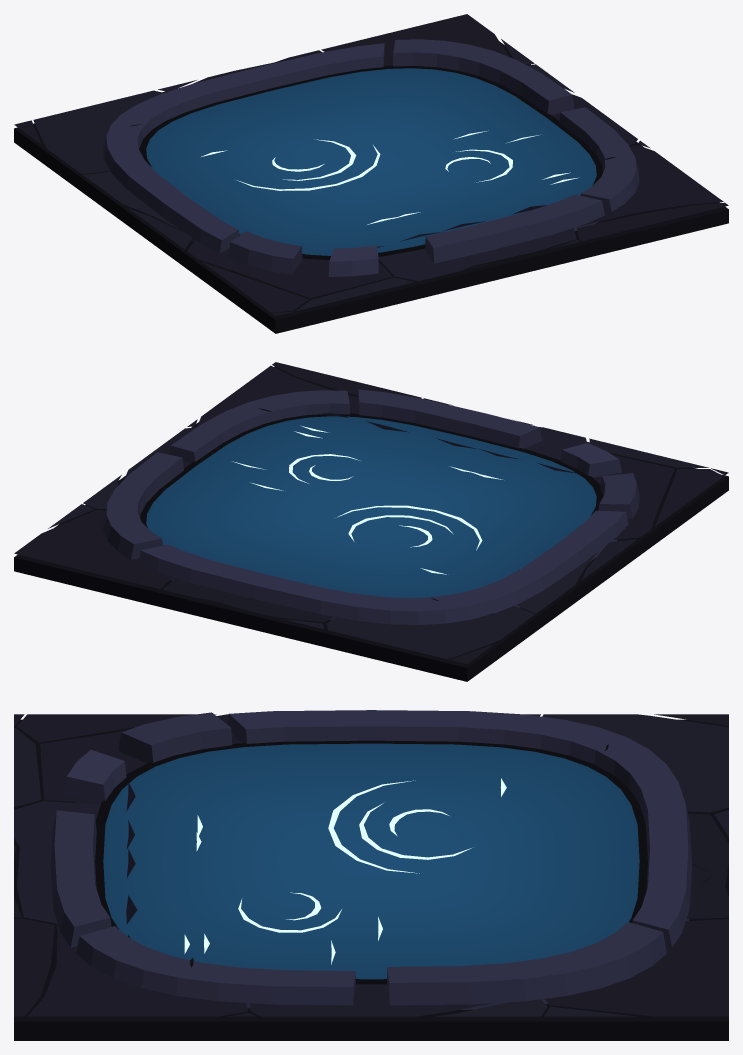
The model's file is pool.glb.
3 renders of one model, top to bottom at view 1: azimuth 30°, elevation 25°; view 2: azimuth 150°, elevation 25°; view 3: azimuth 270°, elevation 25°, orthographic. The views are drawn at different scales.
Visible parts, largest first — view 1: pool.001, pool_water; view 2: pool.001, pool_water; view 3: pool.001, pool_water.
Part boxes in pixels (x1,y1,x2,y2): pool.001: (14,14,728,333); pool_water: (146,68,596,255); pool.001: (14,362,728,681); pool_water: (146,413,596,597); pool.001: (14,710,728,1040); pool_water: (103,743,639,979).
Size of the model in its own units: 4 by 0.2776 by 4.
